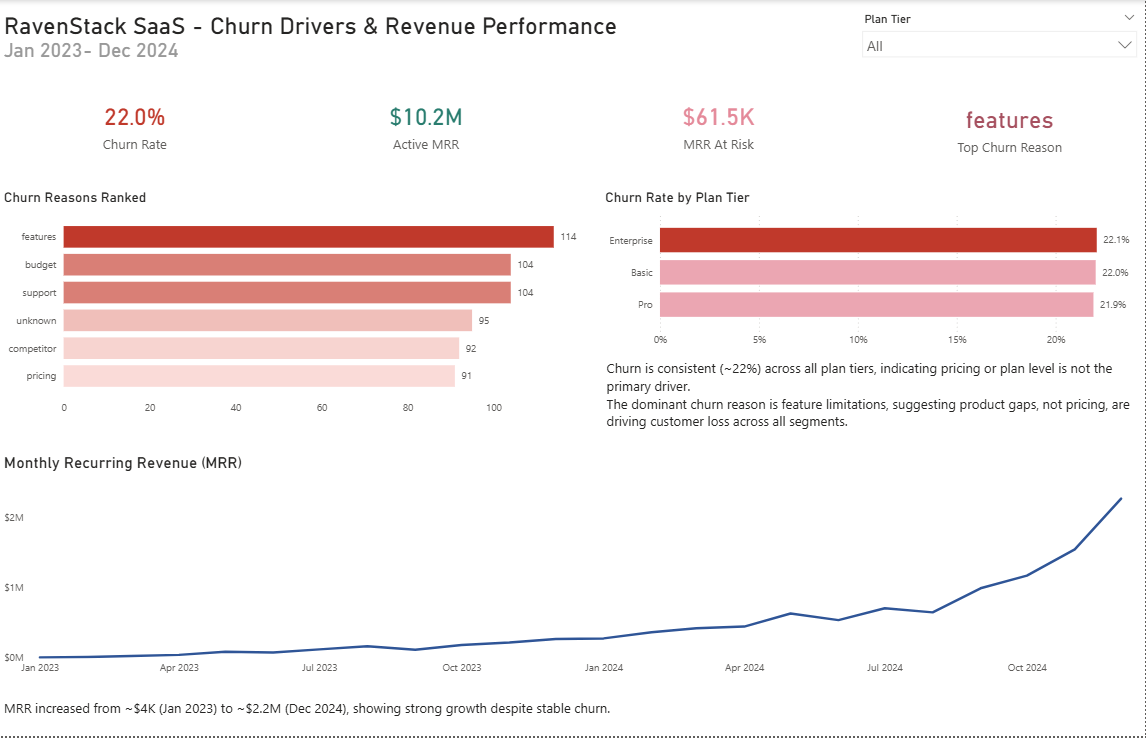

This screenshot's page, from the dashboard's own definition file:
{"tool":"powerbi","page":{"name":"Page 1","canvas":[1400,900],"ordinal":0},"visuals":[{"type":"card","fields":{"Values":["ravenstack_accounts.Churn Rate %"]},"box":[0,76.4,330.2,151.3],"z":0},{"type":"card","fields":{"Values":["ravenstack_accounts.Active MRR"]},"box":[356.7,76.4,330.2,151.3],"z":1000},{"type":"card","fields":{"Values":["ravenstack_accounts.MRR At Risk"]},"box":[713.3,76.4,330.2,151.3],"z":2000},{"type":"card","fields":{"Values":["04_churn_reasons.Top Churn Reason"]},"box":[1069.8,79.5,330.2,151.3],"z":4000},{"type":"clusteredBarChart","title":"Churn Reasons Ranked","fields":{"Category":["04_churn_reasons.reason_code"],"Y":["Sum(04_churn_reasons.total)"]},"box":[0,230.8,719.9,285.8],"z":5000},{"type":"lineChart","title":"Monthly Recurring Revenue (MRR)","fields":{"Y":["Sum(08_mrr.new_mrr)"],"Category":["08_mrr.month.Variation.Date Hierarchy.Year","08_mrr.month.Variation.Date Hierarchy.Quarter","08_mrr.month.Variation.Date Hierarchy.Month","08_mrr.month.Variation.Date Hierarchy.Day"]},"box":[0,554.9,1400.1,279.7],"z":6000},{"type":"clusteredBarChart","title":"Churn Rate by Plan Tier","fields":{"Category":["03_churn_rate.plan_tier"],"Y":["ravenstack_accounts.Churn Rate %"]},"box":[735.2,230.8,663.4,203.3],"z":7000},{"type":"textbox","box":[736.8,434.1,663.4,120.8],"z":8000},{"type":"textbox","box":[0,9.2,1118.9,70.3],"z":9000},{"type":"slicer","fields":{"Values":["04_churn_reasons.plan_tier"]},"box":[1044,9.2,356.1,70.3],"z":10000},{"type":"textbox","box":[0,849.9,1398.6,50.4],"z":11000}]}

Visuals, with their boxes in screenshot pixels (x1, y1, x2, y2), scaled from the page's 1400x900 canvas onto the 1146x738 screenshot:
card - ravenstack_accounts.Churn Rate %: BBox(0, 63, 270, 187)
card - ravenstack_accounts.Active MRR: BBox(292, 63, 562, 187)
card - ravenstack_accounts.MRR At Risk: BBox(584, 63, 854, 187)
card - 04_churn_reasons.Top Churn Reason: BBox(876, 65, 1145, 189)
"Churn Reasons Ranked" clusteredBarChart: BBox(0, 189, 589, 424)
"Monthly Recurring Revenue (MRR)" lineChart: BBox(0, 455, 1145, 684)
"Churn Rate by Plan Tier" clusteredBarChart: BBox(602, 189, 1145, 356)
textbox: BBox(603, 356, 1145, 455)
textbox: BBox(0, 8, 916, 65)
slicer - 04_churn_reasons.plan_tier: BBox(855, 8, 1145, 65)
textbox: BBox(0, 697, 1145, 737)
